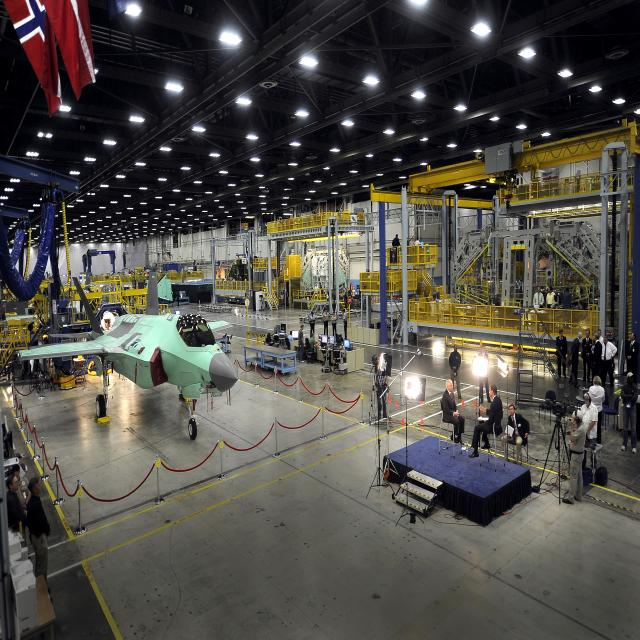MIL_Plane: (15, 272, 238, 439)
